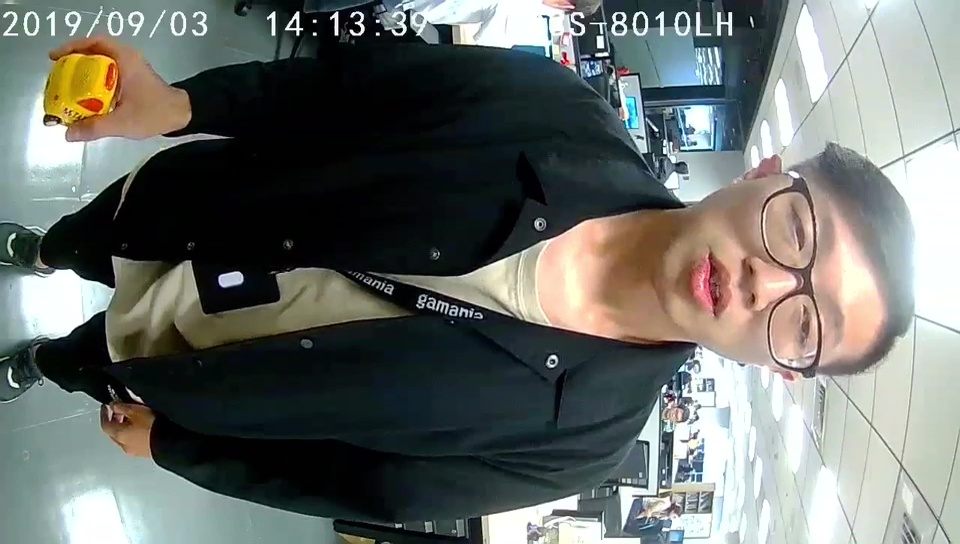car: (42, 55, 119, 125)
